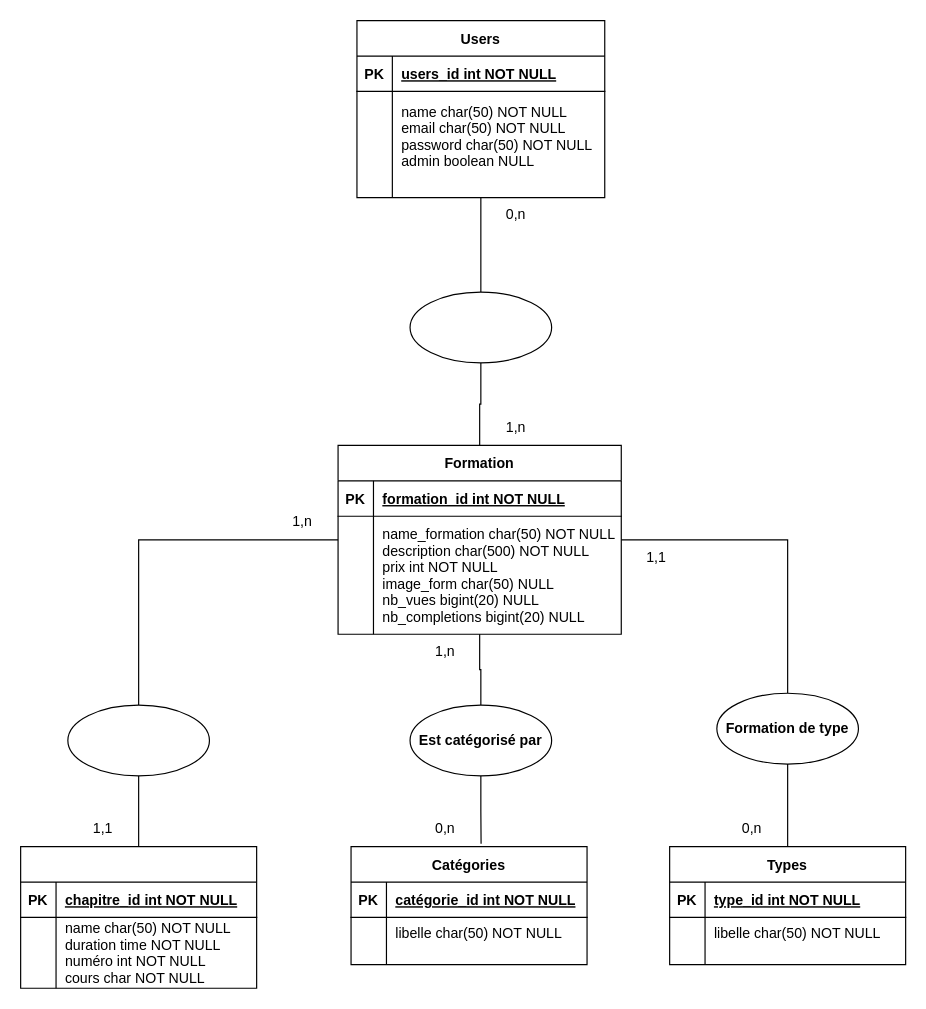
Image size: 926x1009. Some labels were removed from this diagram. The shapes that lost their labels are listed below. From the top down, each one's box as (x1, y1, x2, y2) in pixels, then its label:
(409, 291, 552, 363): A créé
(67, 704, 209, 776): Liste
(19, 845, 257, 988): Chapitres
